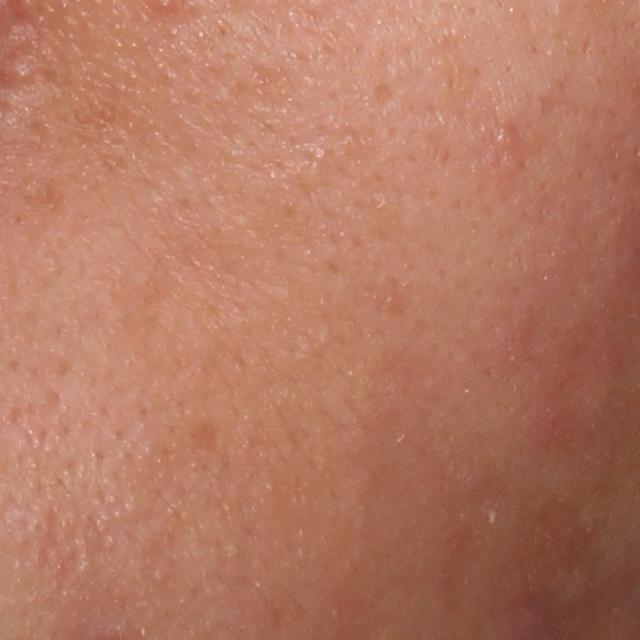atrophic_scar: (371, 82, 400, 109)
